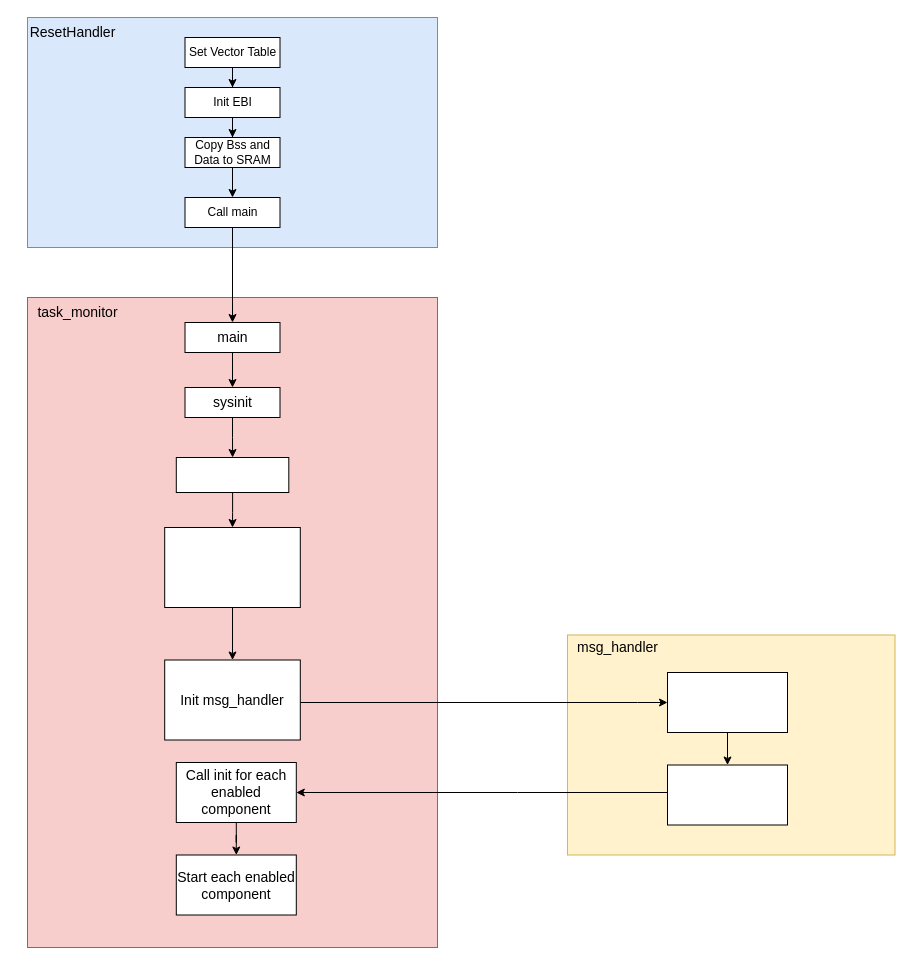
Image size: 912x965. Some labels were removed from this diagram. Each missing label, with the centre of its shape:
check resistor id: point (232, 474)
Init can peripheral with comp task mob settings: point (727, 794)
Init msg handler queue and task: point (727, 702)
Set enable flag for each component that matches resistor id: point (232, 567)
